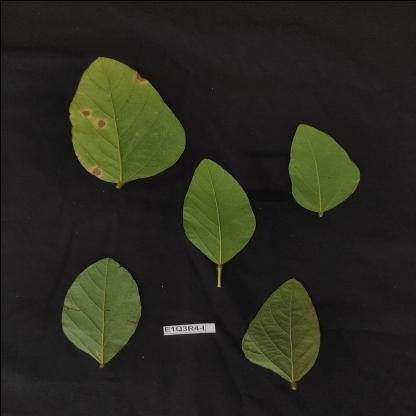label: (160, 313, 226, 343)
leaflets: (58, 44, 194, 178), (45, 240, 152, 380), (272, 118, 380, 226), (235, 274, 328, 396), (160, 156, 262, 266)
